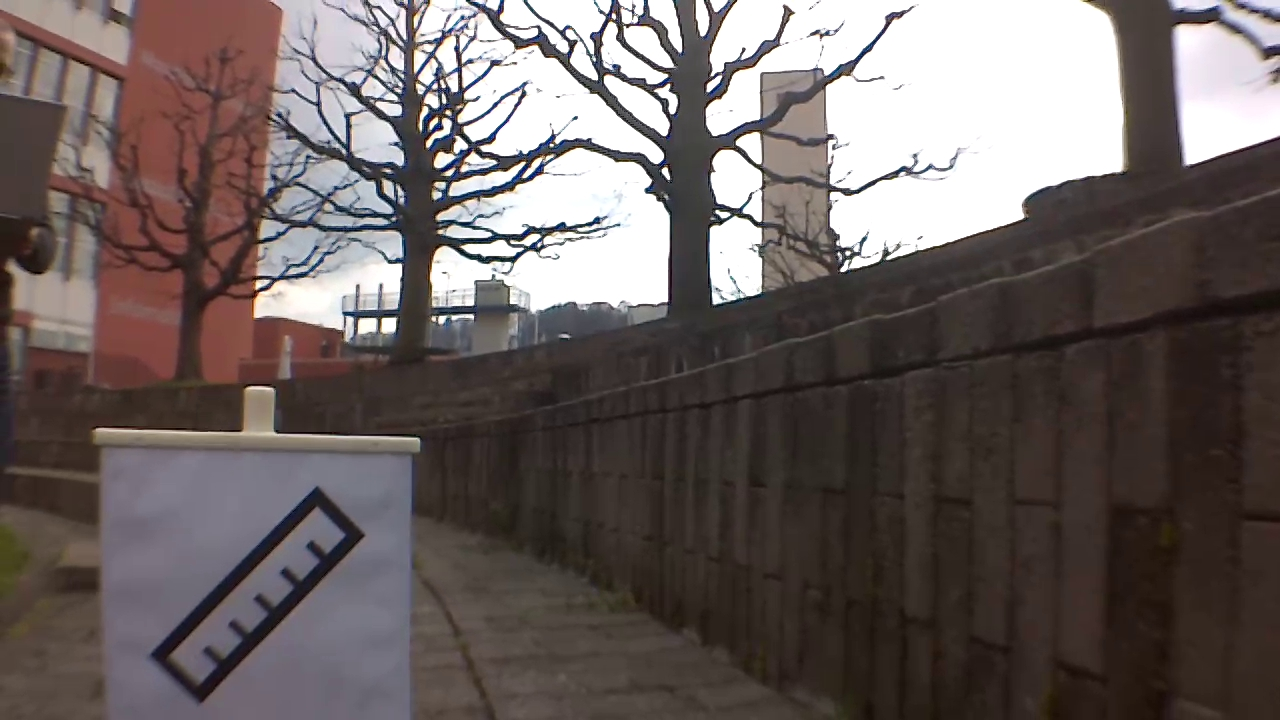ruler: (143, 483, 372, 714)
